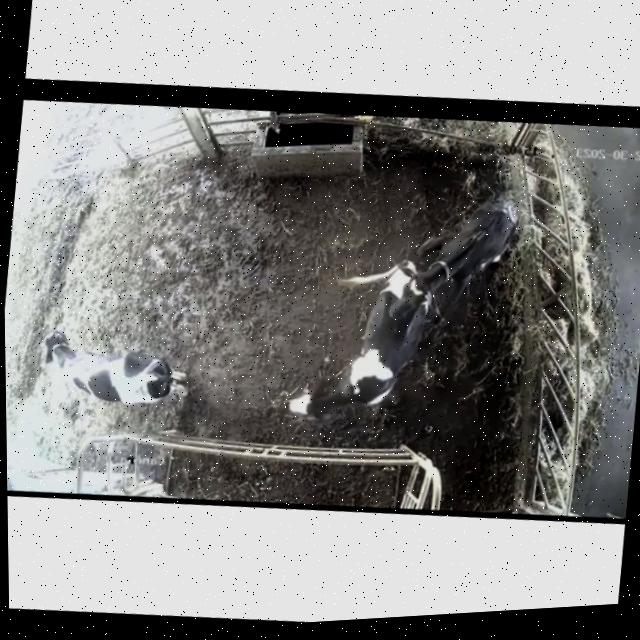propping: (372, 251, 461, 347)
